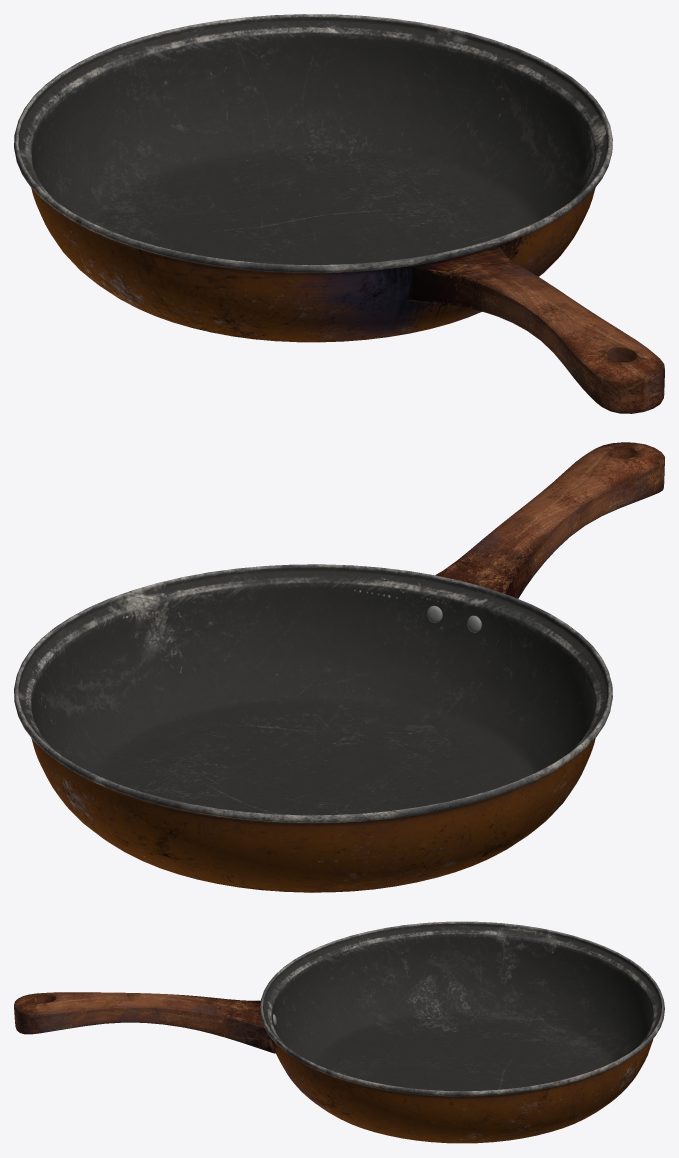
The model's file is pan.obj.
3 renders of one model, top to bottom at view 1: azimuth 30°, elevation 25°; view 2: azimuth 150°, elevation 25°; view 3: azimuth 270°, elevation 25°, orthographic. The views are drawn at different scales.
Parts seen in each view (by area): view 1: PAN.001; view 2: PAN.001; view 3: PAN.001.
Boxes of the visible parts, x1,y1,x2,y2 form: PAN.001: (14,14,664,413); PAN.001: (14,442,664,892); PAN.001: (14,921,664,1143).
Size of the model in its own units: 0.2584 by 0.0596 by 0.4152.
1 material, 1 textured.
